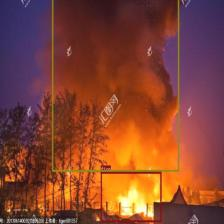fire: (100, 172, 161, 222)
smoke: (52, 0, 179, 172)
